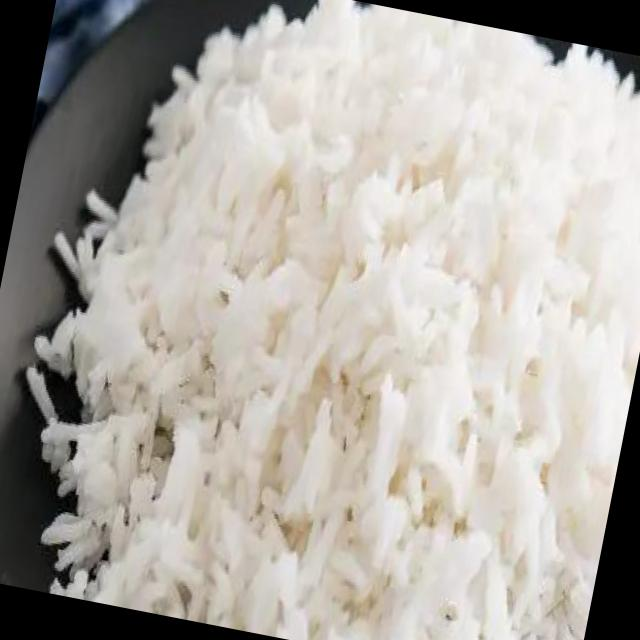rice: (39, 0, 640, 640)
